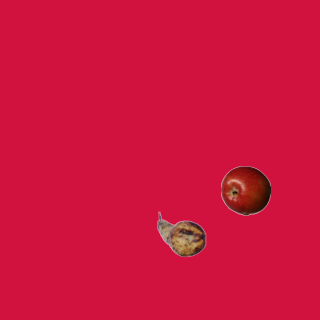Apple Braeburn: (220, 165, 270, 215)
Pear Abate: (156, 209, 206, 259)
